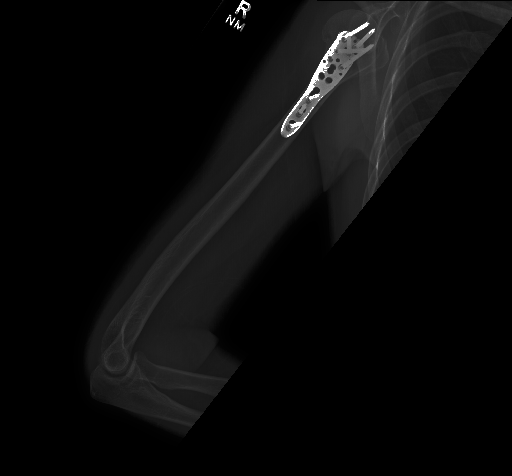implant: (280, 20, 380, 138)
